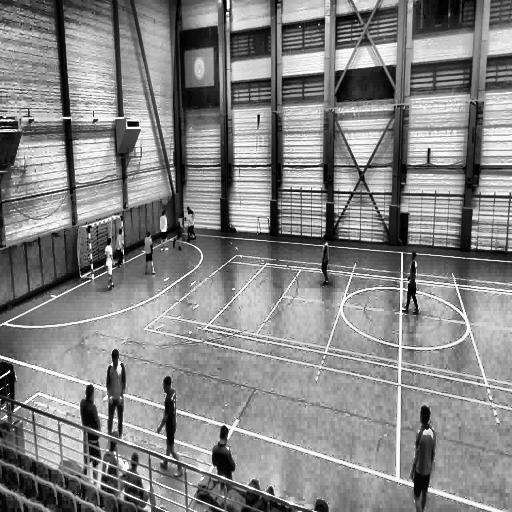ball: (192, 234, 196, 240)
player: (410, 404, 435, 511), (80, 382, 103, 484), (158, 377, 180, 478), (107, 352, 126, 439), (399, 250, 416, 315), (319, 232, 330, 284), (104, 238, 115, 289), (145, 231, 156, 275), (160, 210, 169, 252), (186, 206, 196, 241), (116, 229, 124, 269)
